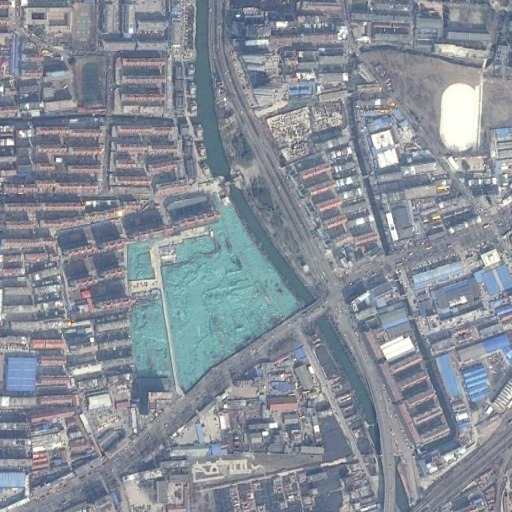cw: (126, 199, 302, 395)
